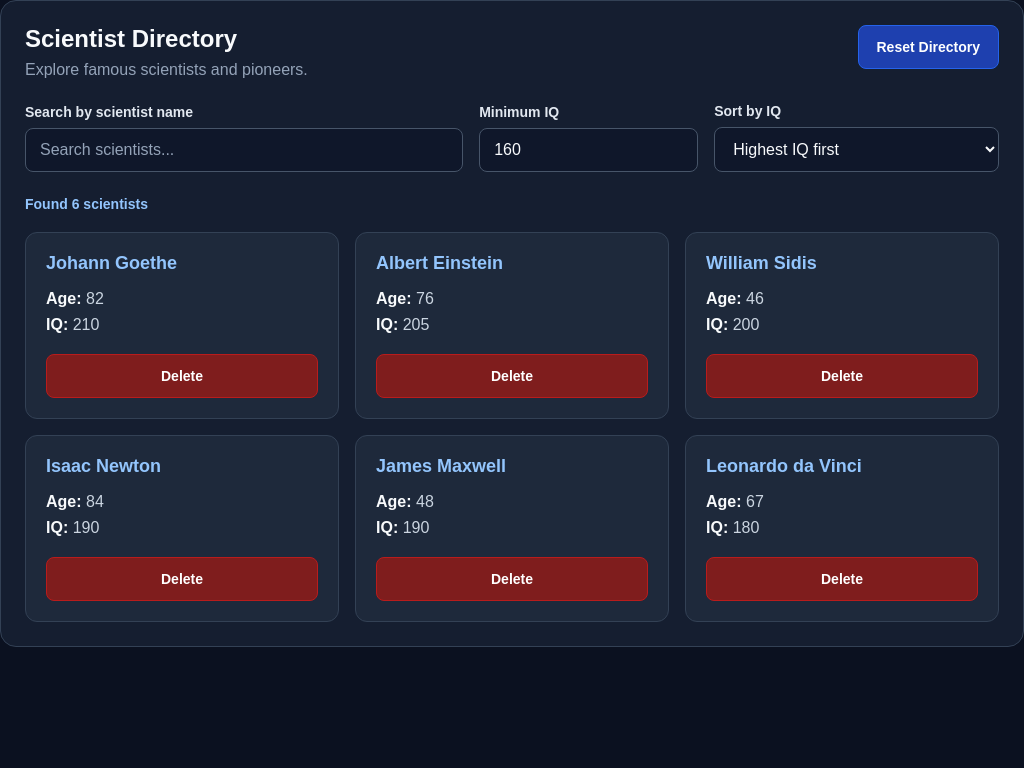
ScientistDirectory › restores all scientists and control defaults
The width and height of the screenshot is (1024, 768).
Click the button with aria-label "Delete Albert Einstein".
click(512, 376)  # box [376,354,648,398]
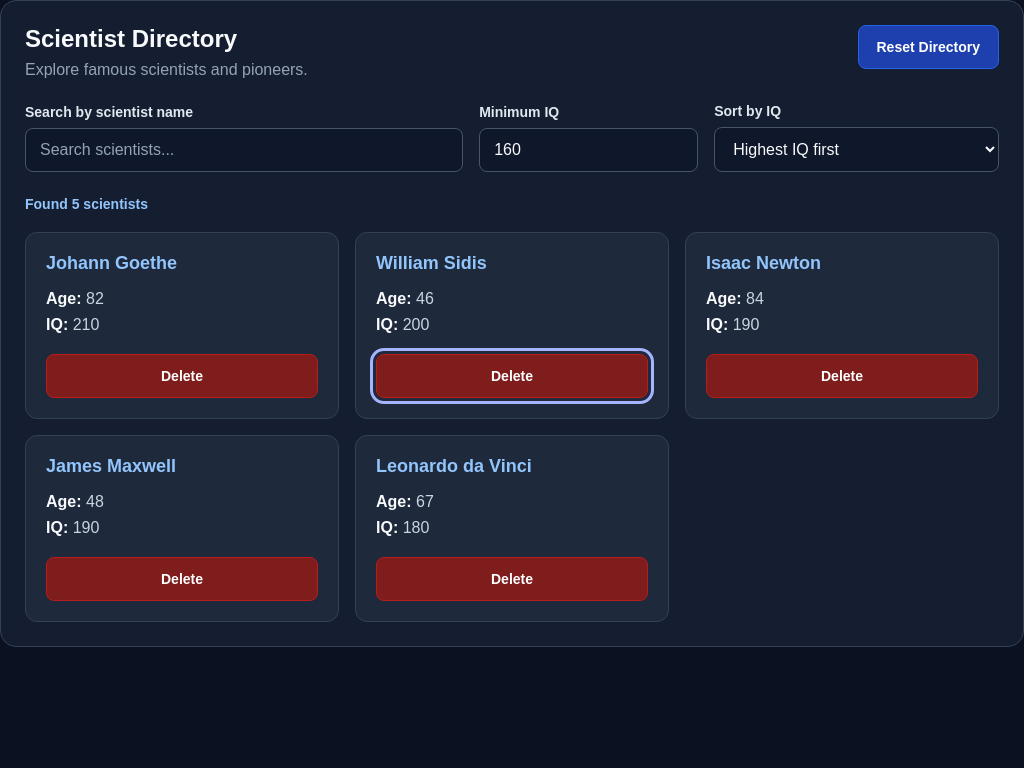
Type "newton" into the search field labelled "Search by scientist name".
click(244, 150); type("newton")  # box [25,128,463,172]
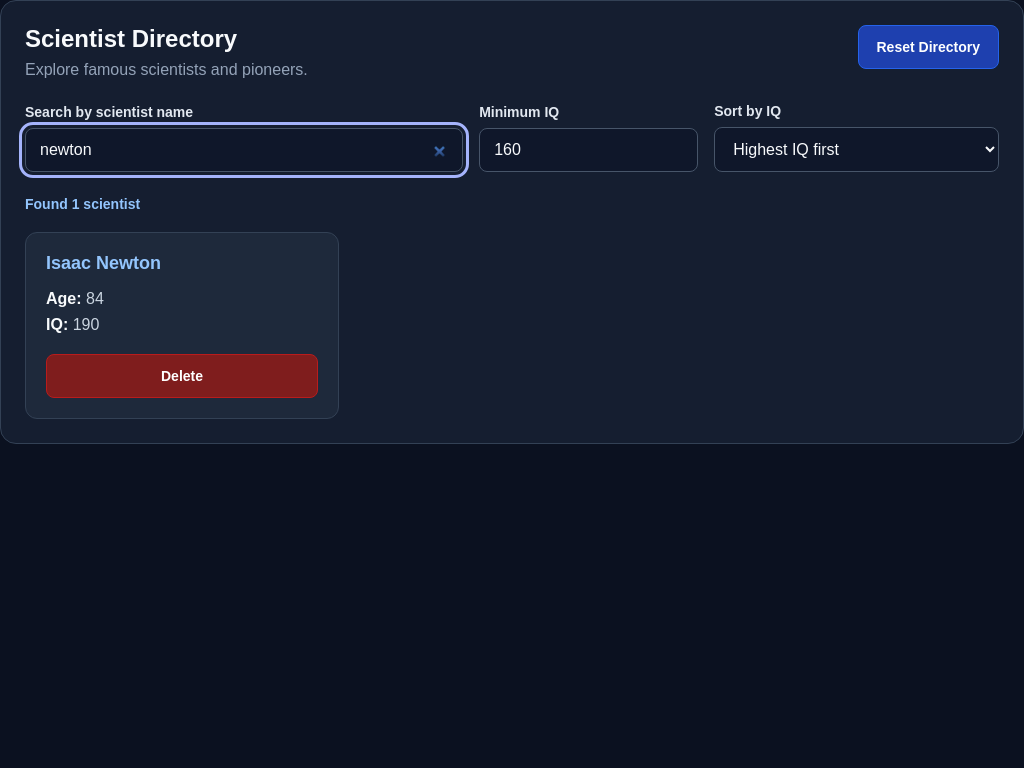
Replace the text in the number field labelled "Minimum IQ" with "200" at [589, 150], box [479,128,698,172]
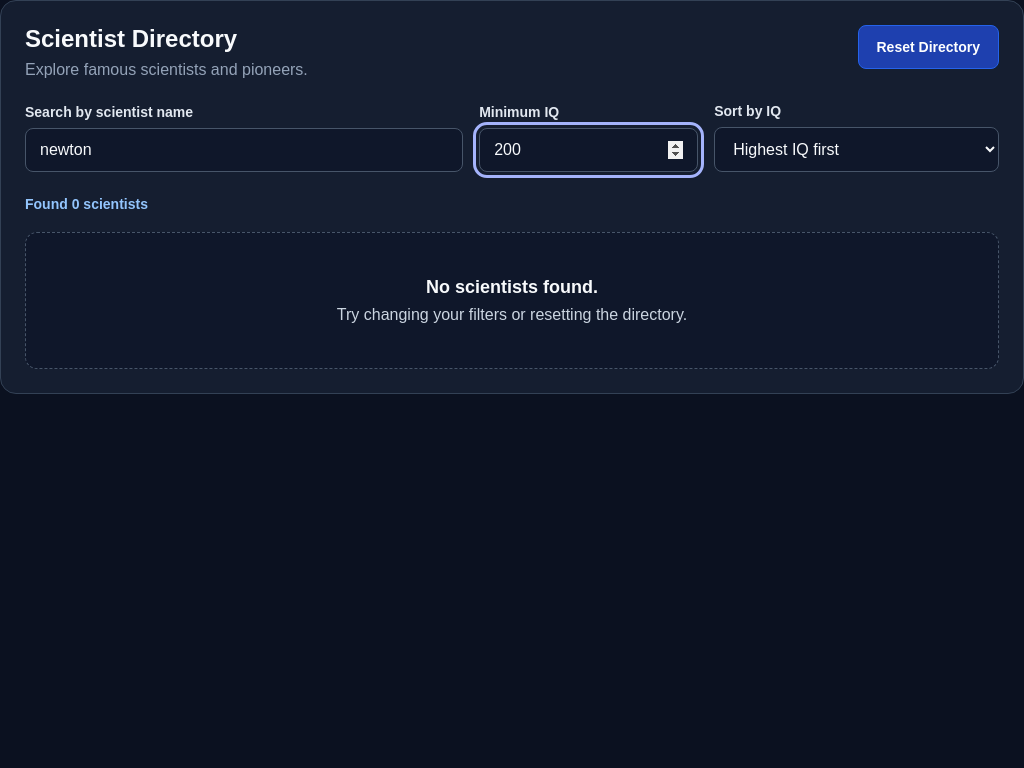
Select "Lowest IQ first" in the dropdown labelled "Sort by IQ" at [857, 150], box [714,127,999,172]
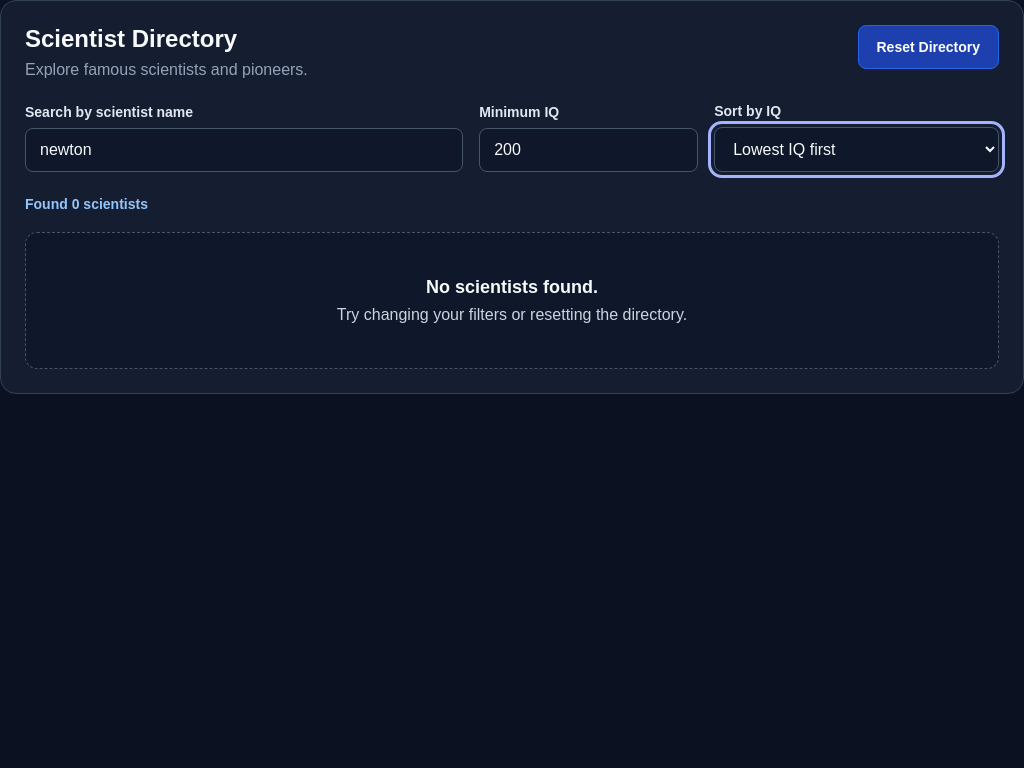
Click the button "Reset Directory".
click(928, 47)  # box [858,25,999,69]
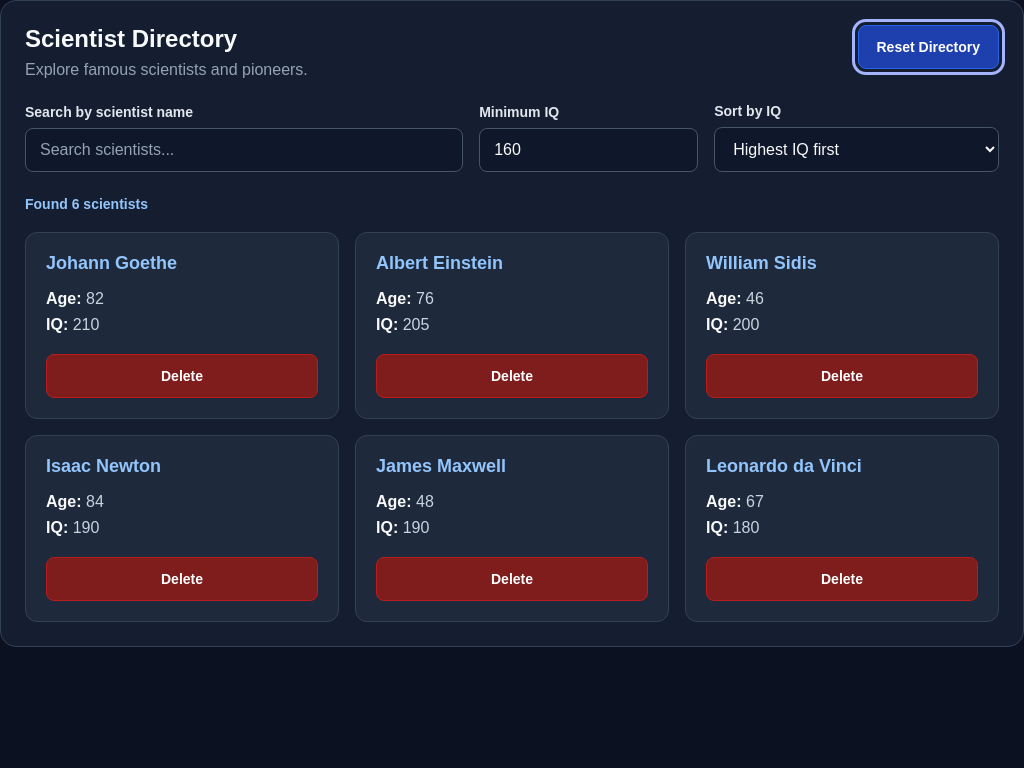
Result: the search field labelled "Search by scientist name" is empty at [25,128,463,172]
Result: the number field labelled "Minimum IQ" holds "160" at [479,128,698,172]
Result: the message reads "Found 6 scientists" at [25,196,148,212]
